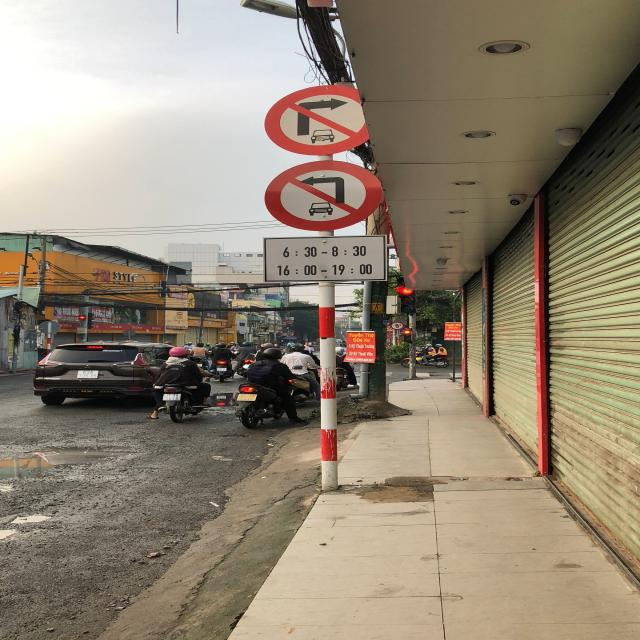Bien bao cam xe o to re phai: (260, 84, 375, 160)
Bien bao cam xe o to re trai: (259, 156, 386, 232)
